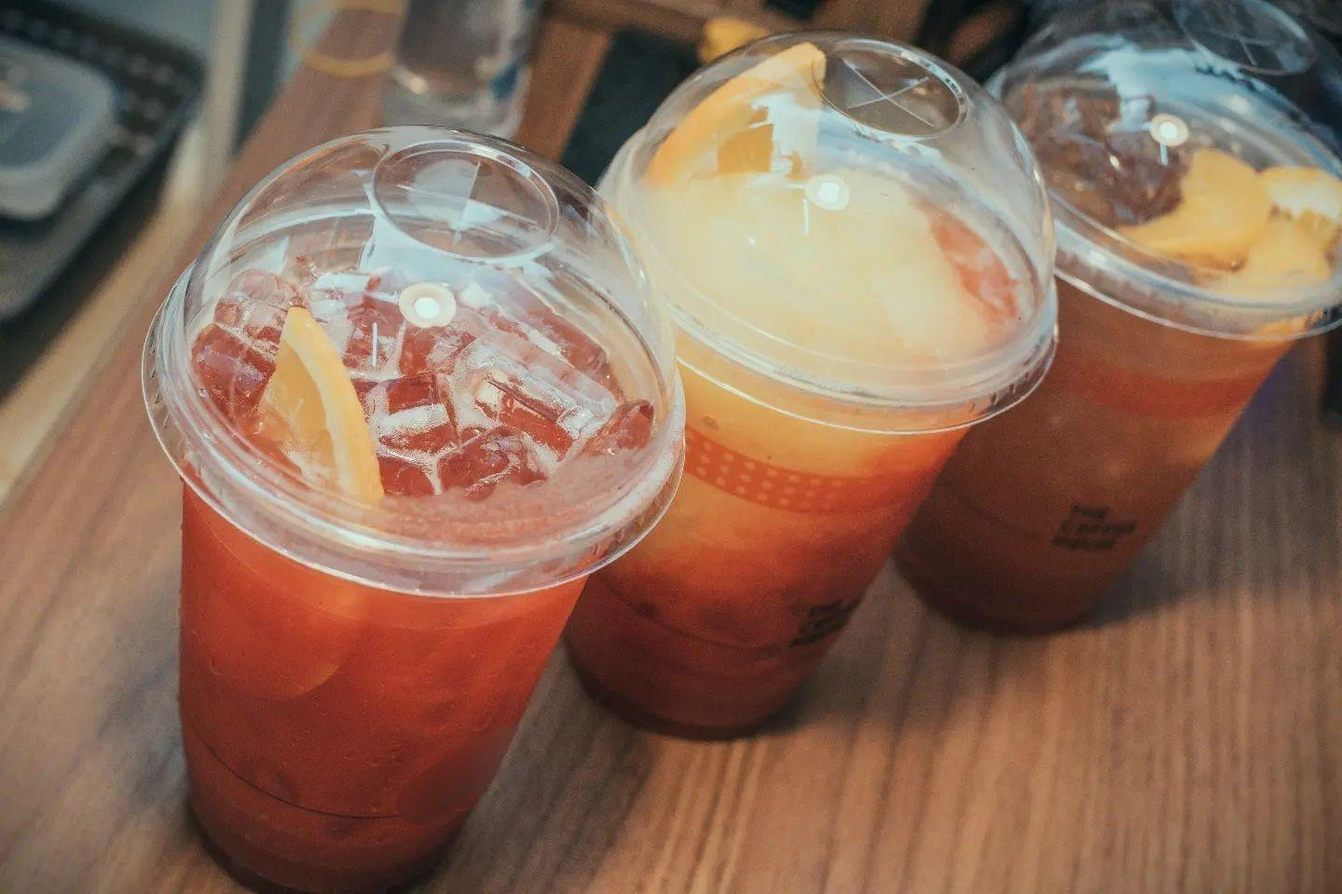cup-disposable: (108, 109, 701, 893), (611, 22, 1059, 794), (898, 4, 1342, 678)
